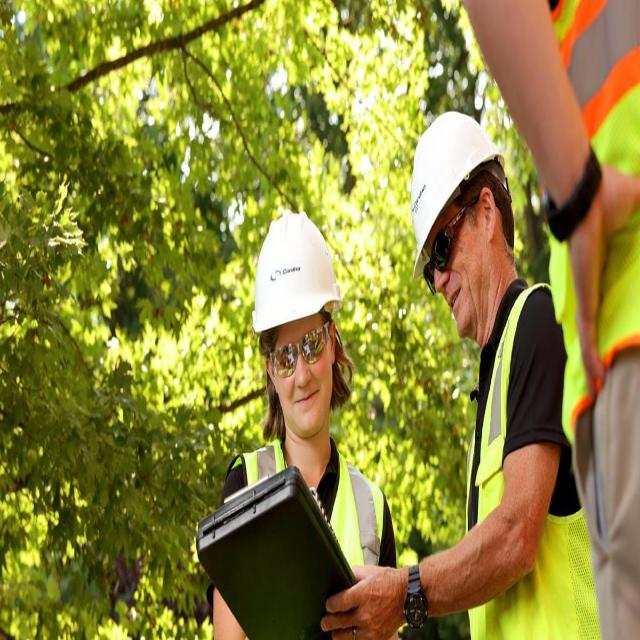Reflective-Jacket: (464, 278, 590, 634), (550, 0, 639, 388), (234, 433, 388, 640)
Safety-Helmet: (404, 105, 505, 272), (248, 205, 342, 337)
